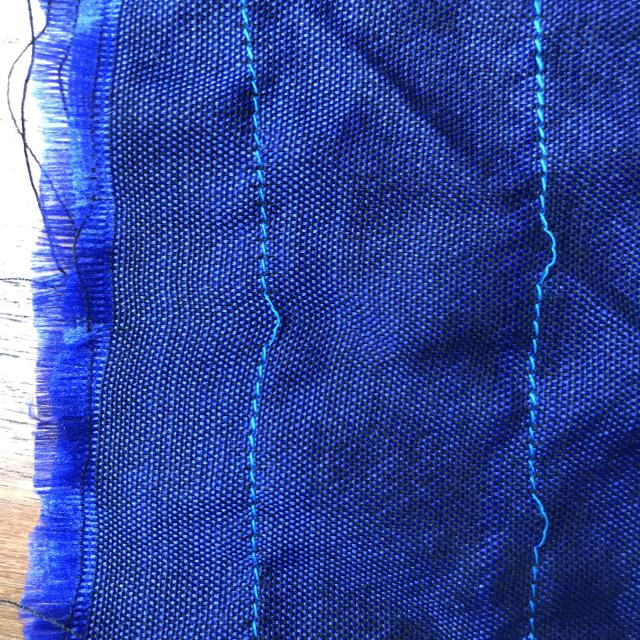skip: (492, 478, 580, 563), (520, 195, 585, 292), (239, 272, 297, 353)
